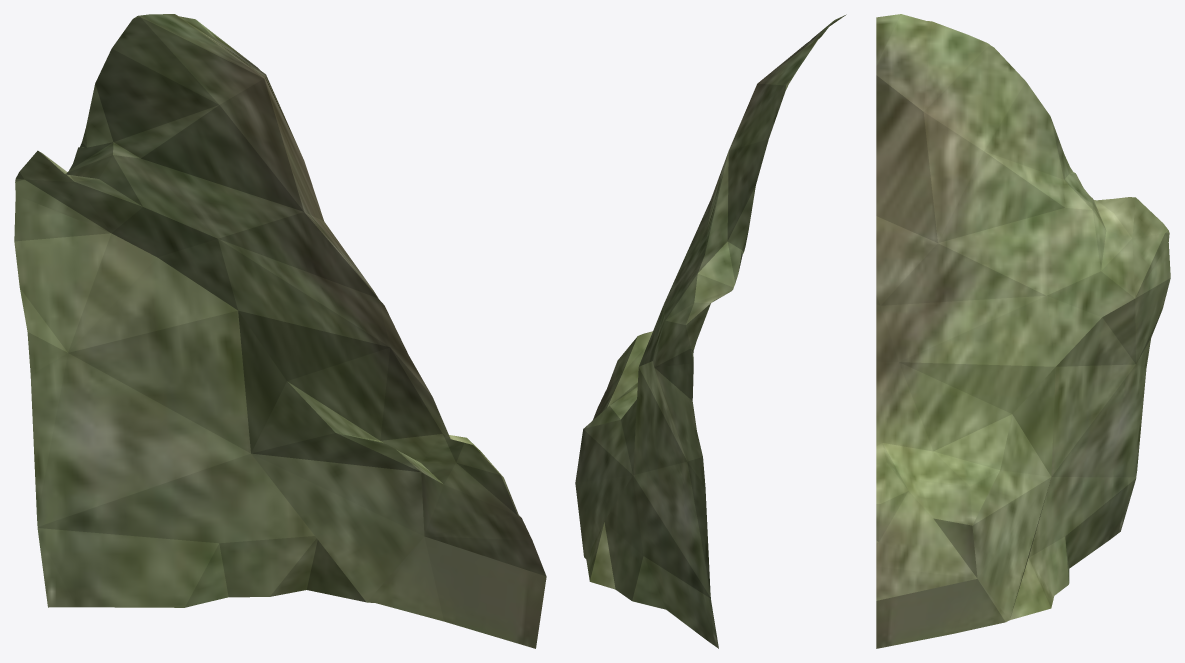
The picture shows the model from 3 angles, left to right: view 1: azimuth 30°, elevation 25°; view 2: azimuth 150°, elevation 25°; view 3: azimuth 270°, elevation 25°; orthographic projection. The views are drawn at different scales.
Size of the model in its own units: 1.9 by 3.78 by 1.95.
1 material, 1 textured.
